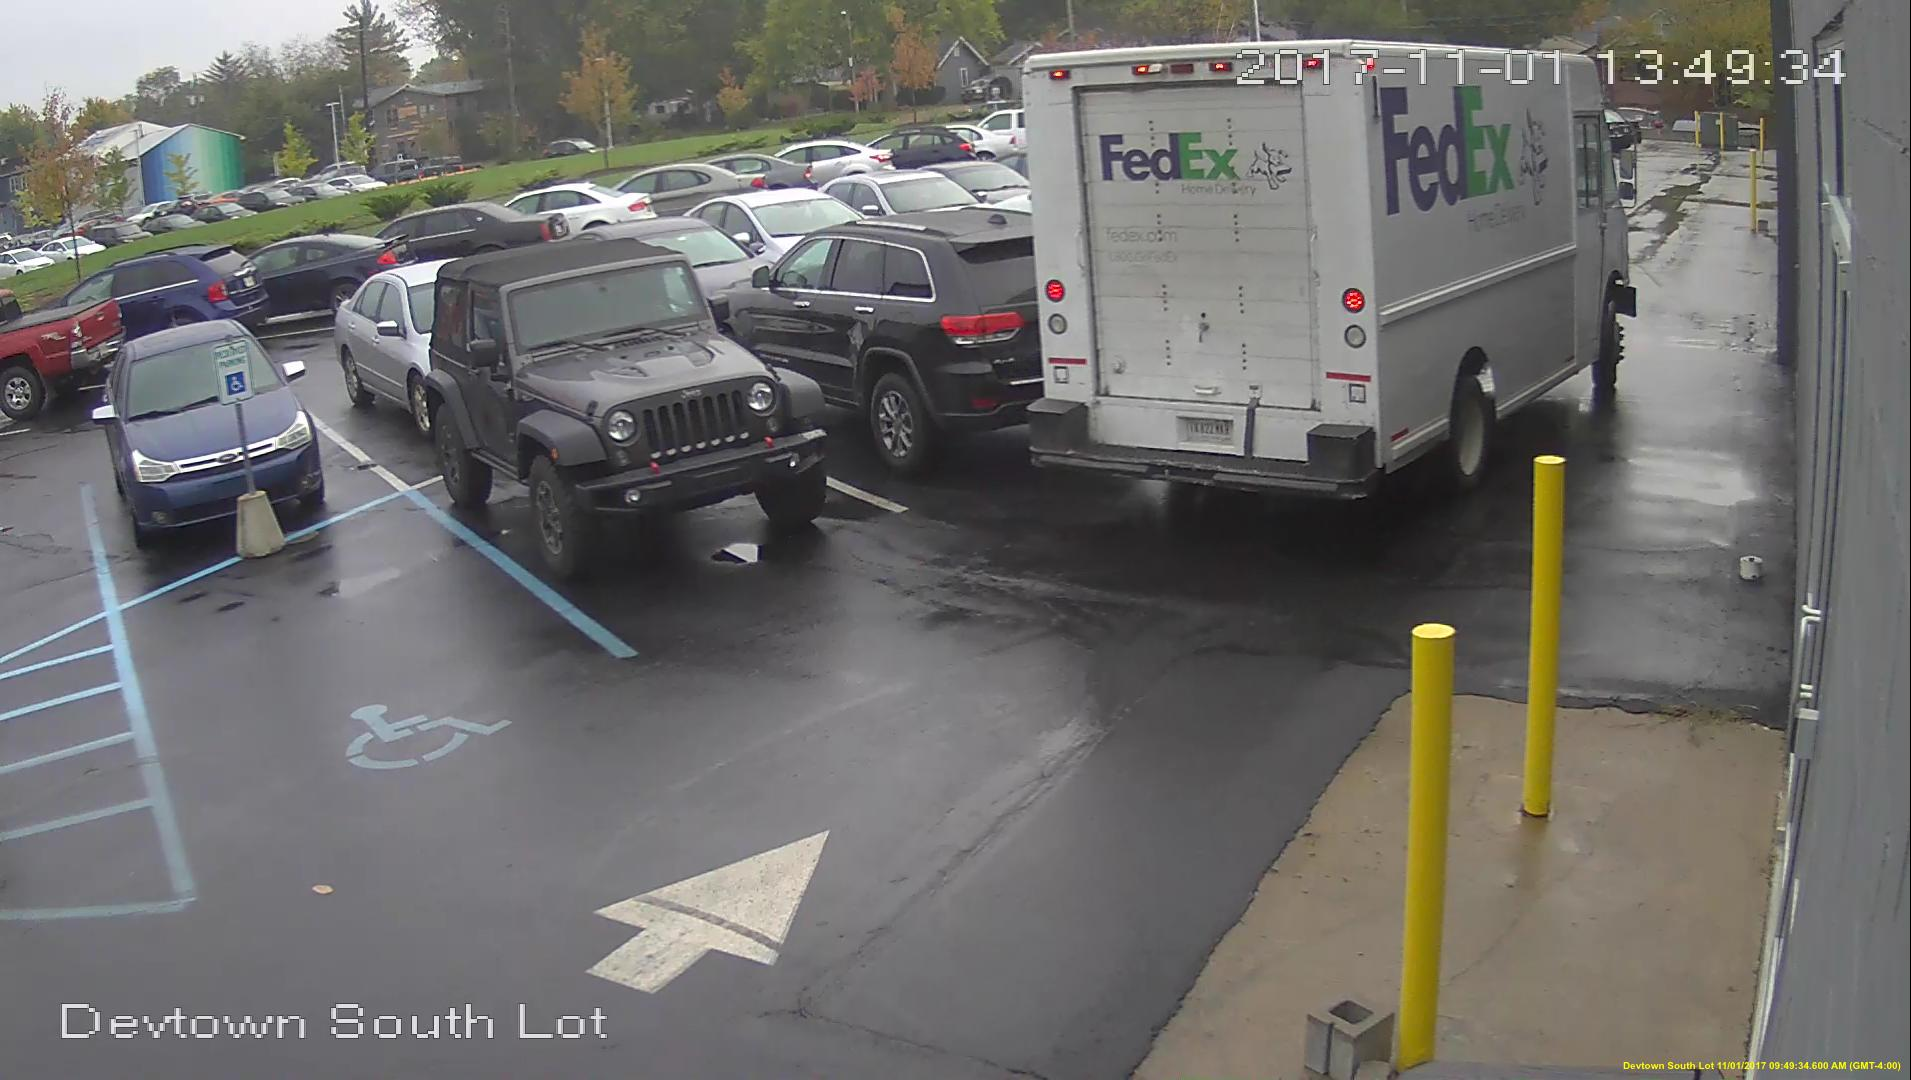fedex_truck: (1024, 50, 1642, 499)
